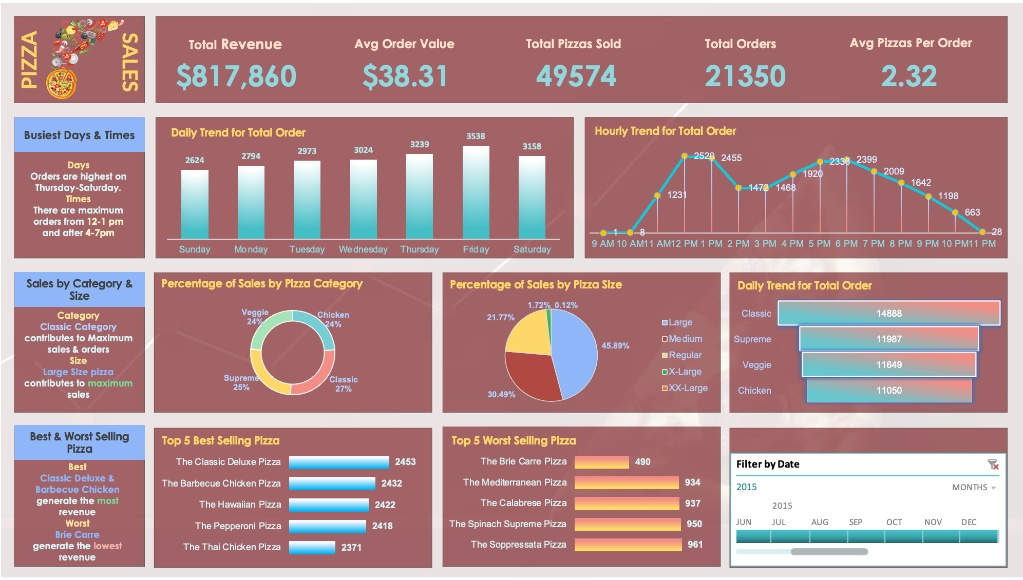

The page's visual inventory and layout, read from the dashboard file:
{"tool":"tableau","page":{"name":"Category, Size & Customer Behavior","canvas":[1280,720],"ordinal":0},"visuals":[{"type":"image","param":"/Users/shadi/Downloads/Untitled design (4).png","box":[8,8,1264,704]},{"type":"filter","title":"Avg Order Value","param":"[federated.13o6fv71qybi9516dg63a0bglyyj].[none:order_date:qk]","box":[1074,25,160,64]},{"type":"text","box":[461,27,341,30]},{"type":"filter","title":"Avg Order Value","param":"[federated.13o6fv71qybi9516dg63a0bglyyj].[none:pizza_size:nk]","box":[52,41,160,41]},{"type":"filter","title":"Avg Order Value","param":"[federated.13o6fv71qybi9516dg63a0bglyyj].[none:pizza_category:nk]","box":[889,42,160,48]},{"type":"text","box":[469,56,321,30]},{"type":"worksheet","title":"Total Revenue","mark":"Automatic","box":[24,107,238,94]},{"type":"worksheet","title":"Avg Order Value","mark":"Automatic","box":[269,107,236,93]},{"type":"worksheet","title":"Total Pizza Sold","mark":"Automatic","box":[514,107,235,92]},{"type":"worksheet","title":"Total Orders","mark":"Automatic","box":[757,108,235,92]},{"type":"worksheet","title":"Avg Pizza Per Order","mark":"Automatic","box":[1001,108,236,92]},{"type":"worksheet","title":"Revenue by Pizza Category ","mark":"Pie","rows":["Calculation_0183966402060295","Calculation_0183966402060295"],"box":[25,213,389,212]},{"type":"worksheet","title":"Veg vs Non-Veg ","mark":"Automatic","rows":["total_price"],"cols":["is_vegetarian"],"box":[841,213,394,214]},{"type":"worksheet","title":"Revenue by Pizza Size","mark":"Pie","rows":["Calculation_0183966404378633","Calculation_0183966404378633"],"box":[435,214,391,211]},{"type":"legend","title":"Revenue by Pizza Size","param":"[federated.13o6fv71qybi9516dg63a0bglyyj].[none:pizza_size:nk]","box":[442,261,74,118]},{"type":"legend","title":"Revenue by Pizza Category ","param":"[federated.13o6fv71qybi9516dg63a0bglyyj].[none:pizza_category:nk]","box":[30,262,93,109]},{"type":"worksheet","title":"Order Size Distribution","mark":"Automatic","rows":["total_price"],"cols":["order_size"],"box":[25,440,390,212]},{"type":"worksheet","title":"Weekday vs Weekend","mark":"Automatic","rows":["total_price"],"cols":["is_weekend"],"box":[435,440,391,212]},{"type":"worksheet","title":"Revenue Category Distribution","mark":"Automatic","rows":["total_price"],"cols":["revenue_category"],"box":[845,443,389,208]},{"type":"text","box":[947,664,267,30]},{"type":"text","box":[680,665,52,30]},{"type":"text","box":[774,665,141,30]},{"type":"dashboard-object","box":[775,665,145,30]},{"type":"dashboard-object","box":[682,668,52,26]}]}

Visuals, with their boxes in screenshot pixels (x1, y1, x2, y2), scaled from the page's 1280x720 canvas onto the 1023x580 screenshot:
image: <bbox>6, 6, 1017, 574</bbox>
"Avg Order Value" filter: <bbox>858, 20, 986, 72</bbox>
text: <bbox>368, 22, 641, 46</bbox>
"Avg Order Value" filter: <bbox>42, 33, 169, 66</bbox>
"Avg Order Value" filter: <bbox>711, 34, 838, 72</bbox>
text: <bbox>375, 45, 631, 69</bbox>
"Total Revenue" worksheet: <bbox>19, 86, 209, 162</bbox>
"Avg Order Value" worksheet: <bbox>215, 86, 404, 161</bbox>
"Total Pizza Sold" worksheet: <bbox>411, 86, 599, 160</bbox>
"Total Orders" worksheet: <bbox>605, 87, 793, 161</bbox>
"Avg Pizza Per Order" worksheet: <bbox>800, 87, 989, 161</bbox>
"Revenue by Pizza Category " worksheet (Pie marks): <bbox>20, 172, 331, 342</bbox>
"Veg vs Non-Veg " worksheet: <bbox>672, 172, 987, 344</bbox>
"Revenue by Pizza Size" worksheet (Pie marks): <bbox>348, 172, 660, 342</bbox>
"Revenue by Pizza Size" legend: <bbox>353, 210, 412, 305</bbox>
"Revenue by Pizza Category " legend: <bbox>24, 211, 98, 299</bbox>
"Order Size Distribution" worksheet: <bbox>20, 354, 332, 525</bbox>
"Weekday vs Weekend" worksheet: <bbox>348, 354, 660, 525</bbox>
"Revenue Category Distribution" worksheet: <bbox>675, 357, 986, 524</bbox>
text: <bbox>757, 535, 970, 559</bbox>
text: <bbox>543, 536, 585, 560</bbox>
text: <bbox>619, 536, 731, 560</bbox>
dashboard-object: <bbox>619, 536, 735, 560</bbox>
dashboard-object: <bbox>545, 538, 587, 559</bbox>
